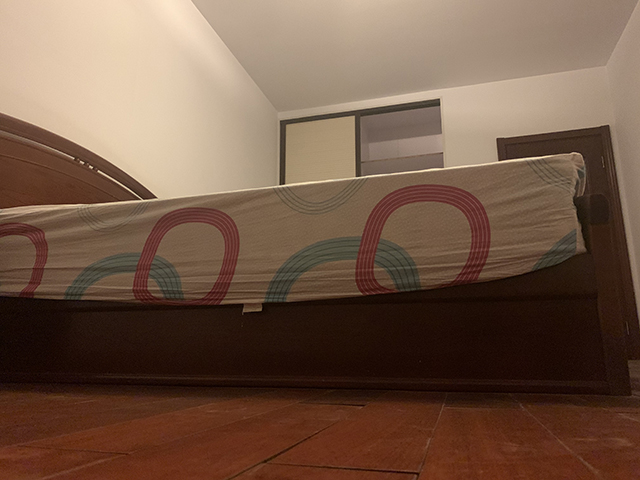bed: (1, 111, 634, 399)
